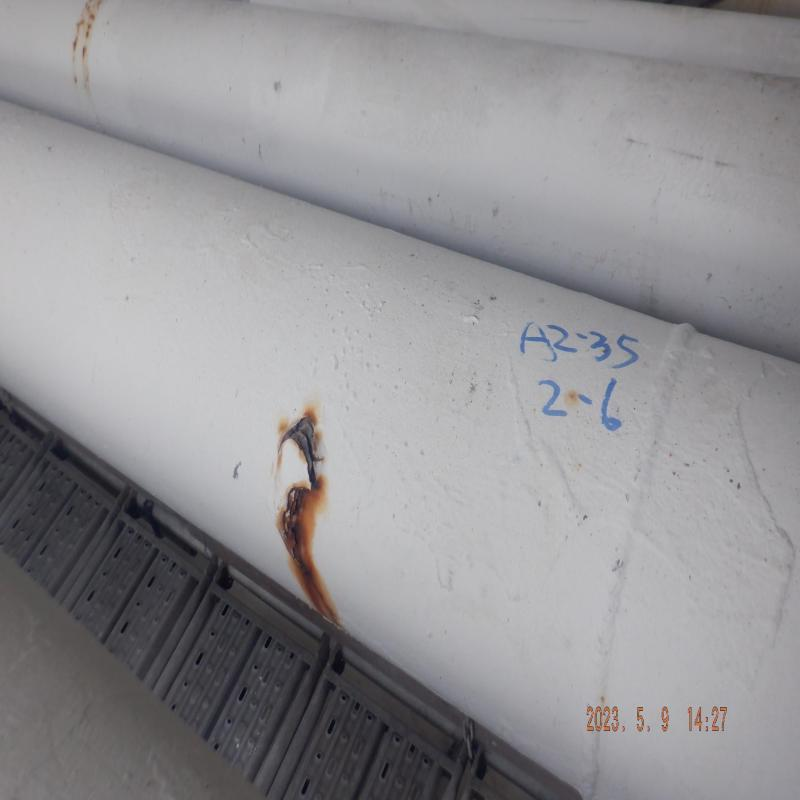corrosion: (276, 419, 335, 625)
